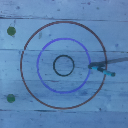Axe Tip: (92, 63, 104, 66)
